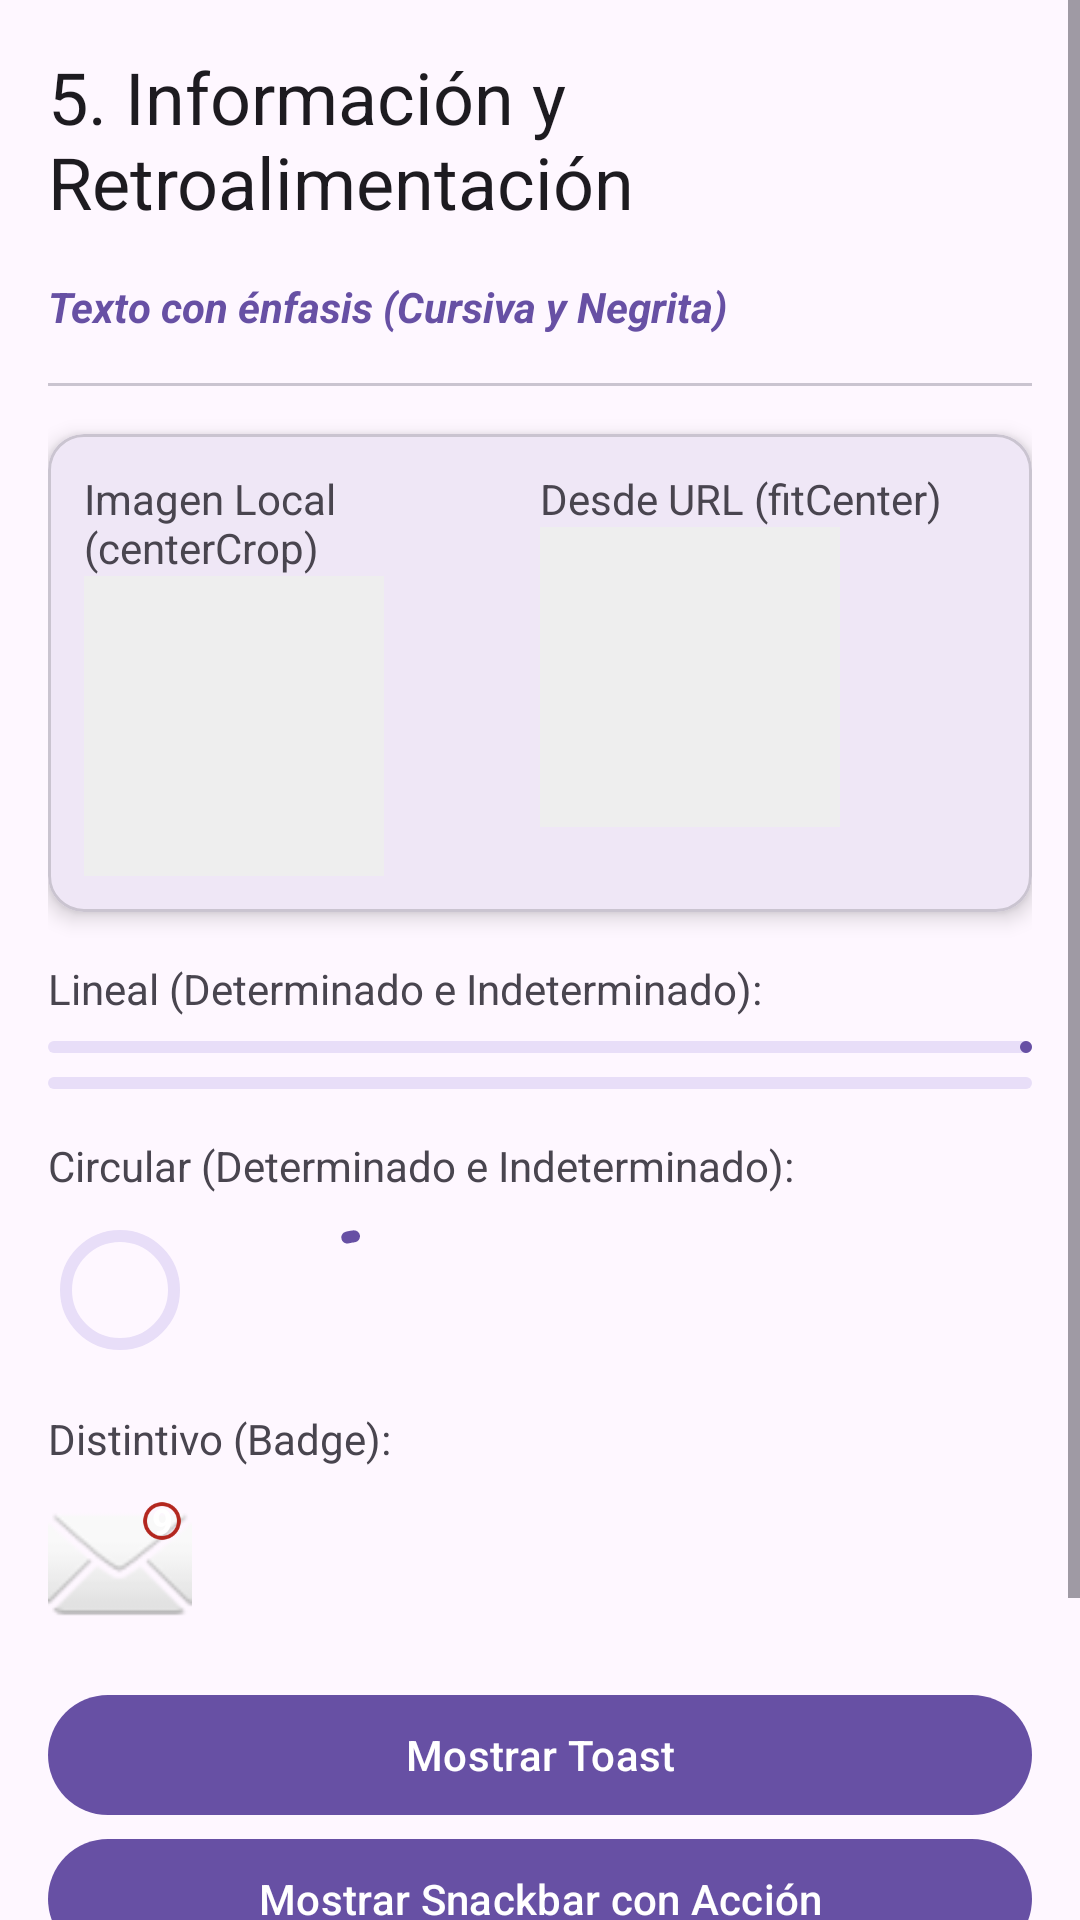

Point at icon controls on the screen. Image size 1080*1920, points as (x,y).
email: (120,1558)
